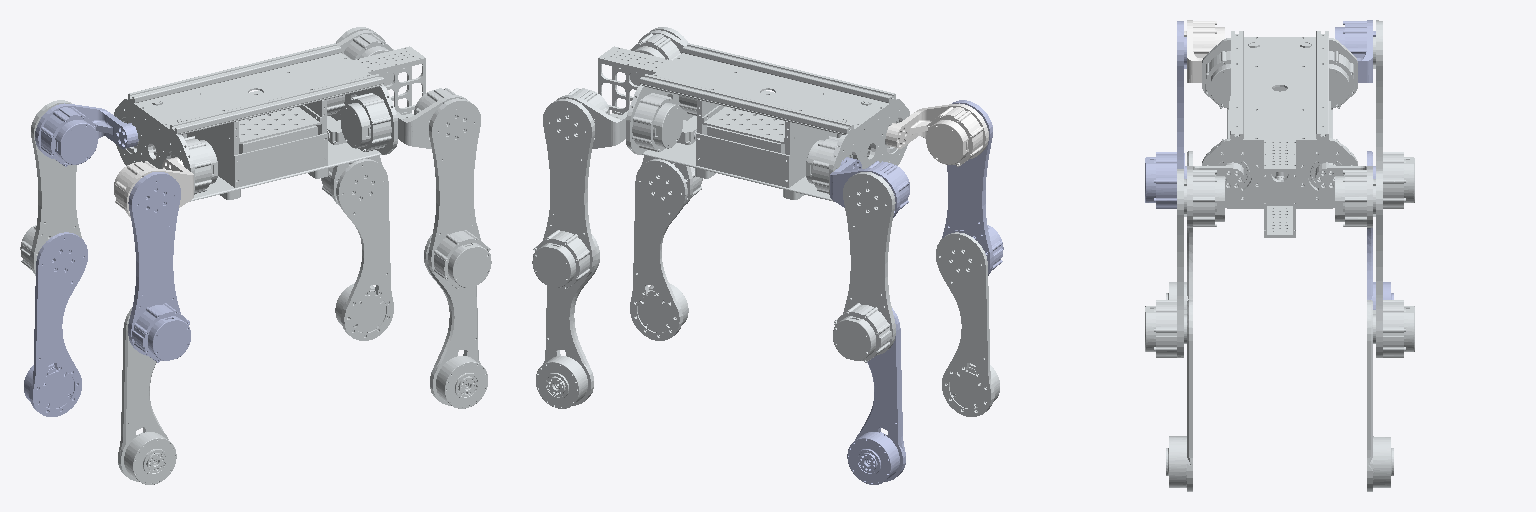
The robot description file, URDF, robot "轮足狗_.SLDASM":
<?xml version='1.0' encoding='utf-8'?>
<robot name="轮足狗_.SLDASM">
  <!--Cleaned URDF: TORSO frame centered at CoM with +X forward, +Y left, +Z up; FR wheel frame rebuilt to match other wheel frames.-->
  <!--FR_FOOT position patch: keep the cleaned FR joint frame/axis, but translate the FR wheel mesh/cylinder outward to match HR right-side wheel offset.-->
  <link name="TORSO">
    <inertial>
      <origin xyz="0 0 0" rpy="0 0 0" />
      <mass value="10.5939" />
      <inertia ixx="2.244989E-02" ixy="4.513171E-07" ixz="3.977473E-07" iyy="3.593972E-02" iyz="8.931130E-08" izz="4.818445E-02" />
    </inertial>
    <visual>
      <origin xyz="-0.17132 -0.082853 -0.17763" rpy="0 0 -1.57079632679" />
      <geometry>
        <mesh filename="meshes/TORSO.STL" />
      </geometry>
      <material name="">
        <color rgba="0.89804 0.91765 0.92941 1" />
      </material>
    </visual>
    <collision>
      <origin xyz="0.00368 4.7e-05 -0.00063" rpy="0 0 0" />
      <geometry>
        <box size="0.36 0.238 0.148" />
      </geometry>
    </collision>
  </link>
  <link name="FL_HIP">
    <inertial>
      <origin xyz="0.070477 0.040444 0.000175" rpy="0 0 0" />
      <mass value="0.901000" />
      <inertia ixx="6.779220E-04" ixy="9.538100E-05" ixz="2.057000E-06" iyy="1.368307E-03" iyz="1.348000E-06" izz="1.331932E-03" />
    </inertial>
    <visual>
      <origin xyz="0 0 0" rpy="0 0 0" />
      <geometry>
        <mesh filename="meshes/FL_HIP.STL" />
      </geometry>
      <material name="">
        <color rgba="0.89804 0.91765 0.92941 1" />
      </material>
    </visual>
    <collision>
      <origin xyz="0.0610 0.0278 0.0000" rpy="0 0 0" />
      <geometry>
        <box size="0.1350 0.0925 0.0900" />
      </geometry>
    </collision>
  </link>
  <joint name="FL_HipX_joint" type="revolute">
    <origin xyz="0.186222764816 0.0725677528644 0.00207736388662" rpy="0 0 0" />
    <parent link="TORSO" />
    <child link="FL_HIP" />
    <axis xyz="1 0 0" />
    <limit lower="-0.7854" upper="0.7854" effort="36" velocity="50" />
  </joint>
  <link name="FL_THIGH">
    <inertial>
      <origin xyz="0.000103 0.023360 -0.157618" rpy="0 0 0" />
      <mass value="1.201000" />
      <inertia ixx="9.982389E-03" ixy="9.890000E-07" ixz="-7.162000E-06" iyy="1.013524E-02" iyz="-1.161495E-03" izz="9.005400E-04" />
    </inertial>
    <visual>
      <origin xyz="0 0 0" rpy="0 0 0" />
      <geometry>
        <mesh filename="meshes/FL_THIGH.STL" />
      </geometry>
      <material name="">
        <color rgba="0.89804 0.91765 0.92941 1" />
      </material>
    </visual>
    <collision>
      <origin xyz="-0.0000 0.0275 -0.1100" rpy="0 0 0" />
      <geometry>
        <box size="0.0900 0.0720 0.3100" />
      </geometry>
    </collision>
  </link>
  <joint name="FL_HipY_joint" type="revolute">
    <origin xyz="0.0835 0.07 0" rpy="0 0 -7.4653E-05" />
    <parent link="FL_HIP" />
    <child link="FL_THIGH" />
    <axis xyz="0 1 0" />
    <limit lower="-2.618" upper="2.618" effort="36" velocity="50" />
  </joint>
  <link name="FL_SHANK">
    <inertial>
      <origin xyz="0.0102344801412479 -0.00705081143452821 -0.0901428442063565" rpy="0 0 0" />
      <mass value="0.875000" />
      <inertia ixx="8.123158E-03" ixy="-4.345000E-06" ixz="-2.567050E-04" iyy="8.411166E-03" iyz="-4.497470E-04" izz="5.552230E-04" />
    </inertial>
    <visual>
      <origin xyz="0 0 0" rpy="0 0 0" />
      <geometry>
        <mesh filename="meshes/FL_SHANK.STL" />
      </geometry>
      <material name="">
        <color rgba="0.89804 0.91765 0.92941 1" />
      </material>
    </visual>
    <collision>
      <origin xyz="0.0051 0.0065 -0.1099" rpy="0 0 0" />
      <geometry>
        <box size="0.1000 0.0420 0.3097" />
      </geometry>
    </collision>
  </link>
  <joint name="FL_Knee_joint" type="revolute">
    <origin xyz="0 0.00449999998746073 -0.220000000000001" rpy="0 0 7.46533953353422E-05" />
    <parent link="FL_THIGH" />
    <child link="FL_SHANK" />
    <axis xyz="0 1 0" />
    <limit lower="-2.65" upper="2.65" effort="36" velocity="50" />
  </joint>
  <link name="FL_FOOT">
    <inertial>
      <origin xyz="-0.000001 0.046293 -0.000001" rpy="0 0 0" />
      <mass value="0.514000" />
      <inertia ixx="1.132843E-03" ixy="0.000000E+00" ixz="0.000000E+00" iyy="2.106672E-03" iyz="0.000000E+00" izz="1.132837E-03" />
    </inertial>
    <visual>
      <origin xyz="0 0 0" rpy="0 0 0" />
      <geometry>
        <mesh filename="meshes/FL_FOOT.STL" />
      </geometry>
      <material name="">
        <color rgba="0.79216 0.81961 0.93333 1" />
      </material>
    </visual>
    <collision>
      <origin xyz="0 0.046293 0" rpy="1.5708 0 0" />
      <geometry>
        <cylinder radius="0.0814" length="0.0493" />
      </geometry>
    </collision>
  </link>
  <joint name="FL_Ankle" type="continuous">
    <origin xyz="0.010470454367838 -0.00450000000000075 -0.219750698714098" rpy="0 0 0" />
    <parent link="FL_SHANK" />
    <child link="FL_FOOT" />
    <axis xyz="0 1 0" />
    <limit effort="17" velocity="33" />
  </joint>
  <link name="FR_HIP">
    <inertial>
      <origin xyz="0.070477 -0.040444 0.000175" rpy="0 0 0" />
      <mass value="0.901000" />
      <inertia ixx="6.779220E-04" ixy="-9.538100E-05" ixz="2.057000E-06" iyy="1.368307E-03" iyz="-1.348000E-06" izz="1.331932E-03" />
    </inertial>
    <visual>
      <origin xyz="0 0 0" rpy="0 0 0" />
      <geometry>
        <mesh filename="meshes/FR_HIP.STL" />
      </geometry>
      <material name="">
        <color rgba="0.898039215686275 0.917647058823529 0.929411764705882 1" />
      </material>
    </visual>
    <collision>
      <origin xyz="0.0610 -0.0277 0.0000" rpy="0 0 0" />
      <geometry>
        <box size="0.1350 0.0925 0.0900" />
      </geometry>
    </collision>
  </link>
  <joint name="FR_HipX_joint" type="revolute">
    <origin xyz="0.18622 -0.072432 0.00208" rpy="0 0 3.67320510335e-06" />
    <parent link="TORSO" />
    <child link="FR_HIP" />
    <axis xyz="1 0 0" />
    <limit lower="-0.7854" upper="0.7854" effort="36" velocity="50" />
  </joint>
  <link name="FR_THIGH">
    <inertial>
      <origin xyz="0.000103 -0.023360 -0.157618" rpy="0 0 0" />
      <mass value="1.201000" />
      <inertia ixx="9.982389E-03" ixy="-9.890000E-07" ixz="-7.162000E-06" iyy="1.013524E-02" iyz="1.161495E-03" izz="9.005400E-04" />
    </inertial>
    <visual>
      <origin xyz="0 0 0" rpy="0 0 0" />
      <geometry>
        <mesh filename="meshes/FR_THIGH.STL" />
      </geometry>
      <material name="">
        <color rgba="0.89804 0.91765 0.92941 1" />
      </material>
    </visual>
    <collision>
      <origin xyz="0.0000 -0.0275 -0.1100" rpy="0 0 0" />
      <geometry>
        <box size="0.0900 0.0720 0.3100" />
      </geometry>
    </collision>
  </link>
  <joint name="FR_HipY_joint" type="revolute">
    <origin xyz="0.0834999999999989 -0.0699978978739992 0" rpy="0 0 0" />
    <parent link="FR_HIP" />
    <child link="FR_THIGH" />
    <axis xyz="0 1 0" />
    <limit lower="-2.618" upper="2.618" effort="36" velocity="50" />
  </joint>
  <link name="FR_SHANK">
    <inertial>
      <origin xyz="0.0102335137649963 0.00705014206401373 -0.0901429071391265" rpy="0 0 0" />
      <mass value="0.875000" />
      <inertia ixx="8.123158E-03" ixy="4.345000E-06" ixz="-2.567050E-04" iyy="8.411166E-03" iyz="4.497470E-04" izz="5.552230E-04" />
    </inertial>
    <visual>
      <origin xyz="0 0 0" rpy="0 0 0" />
      <geometry>
        <mesh filename="meshes/FR_SHANK.STL" />
      </geometry>
      <material name="">
        <color rgba="0.89804 0.91765 0.92941 1" />
      </material>
    </visual>
    <collision>
      <origin xyz="0.0051 -0.0065 -0.1099" rpy="0 0 0" />
      <geometry>
        <box size="0.1000 0.0420 0.3097" />
      </geometry>
    </collision>
  </link>
  <joint name="FR_Knee_joint" type="revolute">
    <origin xyz="0 -0.00450000000138416 -0.219999999999972" rpy="0 0 0" />
    <parent link="FR_THIGH" />
    <child link="FR_SHANK" />
    <axis xyz="0 1 0" />
    <limit lower="-2.65" upper="2.65" effort="36" velocity="50" />
  </joint>
  <link name="FR_FOOT">
    <inertial>
      <origin xyz="-0.000001 -0.046293 -0.000001" rpy="0 0 0" />
      <mass value="0.514000" />
      <inertia ixx="1.132843E-03" ixy="-0.000000E+00" ixz="0.000000E+00" iyy="2.106672E-03" iyz="-0.000000E+00" izz="1.132837E-03" />
    </inertial>
    <visual>
      <origin xyz="0 -0.0462931261351 0" rpy="1.57079632679 0 0" />
      <geometry>
        <mesh filename="meshes/FR_FOOT.STL" />
      </geometry>
      <material name="">
        <color rgba="0.79216 0.81961 0.93333 1" />
      </material>
    </visual>
    <collision>
      <origin xyz="0 -0.0462931261351 0" rpy="1.57079632679 0 0" />
      <geometry>
        <cylinder radius="0.0814" length="0.0493" />
      </geometry>
    </collision>
  </link>
  <joint name="FR_Ankle" type="continuous">
    <origin xyz="0.0104704543678 0.0045 -0.219750698714" rpy="0 0 0" />
    <parent link="FR_SHANK" />
    <child link="FR_FOOT" />
    <axis xyz="0 1 0" />
    <limit effort="17" velocity="33" />
  </joint>
  <link name="HL_Hip">
    <inertial>
      <origin xyz="-0.070477 0.040444 0.000175" rpy="0 0 0" />
      <mass value="0.901000" />
      <inertia ixx="6.779220E-04" ixy="-9.538100E-05" ixz="-2.057000E-06" iyy="1.368307E-03" iyz="1.348000E-06" izz="1.331932E-03" />
    </inertial>
    <visual>
      <origin xyz="0 0 0" rpy="0 0 0" />
      <geometry>
        <mesh filename="meshes/HL_Hip.STL" />
      </geometry>
      <material name="">
        <color rgba="0.792156862745098 0.819607843137255 0.933333333333333 1" />
      </material>
    </visual>
    <collision>
      <origin xyz="-0.0610 0.0278 0.0000" rpy="0 0 0" />
      <geometry>
        <box size="0.1350 0.0925 0.0900" />
      </geometry>
    </collision>
  </link>
  <joint name="HL_HipX_joint" type="revolute">
    <origin xyz="-0.185777 0.072567 0.00208" rpy="0 0 3.67320510335e-06" />
    <parent link="TORSO" />
    <child link="HL_Hip" />
    <axis xyz="1 0 0" />
    <limit lower="-0.7854" upper="0.7854" effort="36" velocity="50" />
  </joint>
  <link name="HL_THIGH">
    <inertial>
      <origin xyz="-0.000103 0.023360 -0.157618" rpy="0 0 0" />
      <mass value="1.201000" />
      <inertia ixx="9.982389E-03" ixy="-9.890000E-07" ixz="7.162000E-06" iyy="1.013524E-02" iyz="-1.161495E-03" izz="9.005400E-04" />
    </inertial>
    <visual>
      <origin xyz="0 0 0" rpy="0 0 0" />
      <geometry>
        <mesh filename="meshes/HL_THIGH.STL" />
      </geometry>
      <material name="">
        <color rgba="0.89804 0.91765 0.92941 1" />
      </material>
    </visual>
    <collision>
      <origin xyz="0.0000 0.0275 -0.1100" rpy="0 0 0" />
      <geometry>
        <box size="0.0900 0.0720 0.3100" />
      </geometry>
    </collision>
  </link>
  <joint name="HL_HipY_joint" type="revolute">
    <origin xyz="-0.0835000000000001 0.0700000000000002 0" rpy="0 0 0" />
    <parent link="HL_Hip" />
    <child link="HL_THIGH" />
    <axis xyz="0 1 0" />
    <limit lower="-2.618" upper="2.618" effort="36" velocity="50" />
  </joint>
  <link name="HL_SHANK">
    <inertial>
      <origin xyz="-0.0102335138101311 -0.00705074667591804 -0.0901428598448259" rpy="0 0 0" />
      <mass value="0.875000" />
      <inertia ixx="8.123158E-03" ixy="4.345000E-06" ixz="2.567050E-04" iyy="8.411166E-03" iyz="-4.497470E-04" izz="5.552230E-04" />
    </inertial>
    <visual>
      <origin xyz="0 0 0" rpy="0 0 0" />
      <geometry>
        <mesh filename="meshes/HL_SHANK.STL" />
      </geometry>
      <material name="">
        <color rgba="0.79216 0.81961 0.93333 1" />
      </material>
    </visual>
    <collision>
      <origin xyz="-0.0051 0.0065 -0.1099" rpy="0 0 0" />
      <geometry>
        <box size="0.1000 0.0420 0.3097" />
      </geometry>
    </collision>
  </link>
  <joint name="HL_Knee_joint" type="revolute">
    <origin xyz="0 0.00450000000069189 -0.219999999999986" rpy="0 0 0" />
    <parent link="HL_THIGH" />
    <child link="HL_SHANK" />
    <axis xyz="0 1 0" />
    <limit lower="-2.65" upper="2.65" effort="36" velocity="50" />
  </joint>
  <link name="HL_FOOT">
    <inertial>
      <origin xyz="0.000001 0.046293 -0.000001" rpy="0 0 0" />
      <mass value="0.514000" />
      <inertia ixx="1.132843E-03" ixy="-0.000000E+00" ixz="-0.000000E+00" iyy="2.106672E-03" iyz="0.000000E+00" izz="1.132837E-03" />
    </inertial>
    <visual>
      <origin xyz="0 0 0" rpy="0 0 0" />
      <geometry>
        <mesh filename="meshes/HL_FOOT.STL" />
      </geometry>
      <material name="">
        <color rgba="0.79216 0.81961 0.93333 1" />
      </material>
    </visual>
    <collision>
      <origin xyz="0 0.046293 0" rpy="1.5708 0 0" />
      <geometry>
        <cylinder radius="0.0814" length="0.0493" />
      </geometry>
    </collision>
  </link>
  <joint name="HL_Ankle" type="continuous">
    <origin xyz="-0.010470454367838 -0.00449999999930983 -0.219750698714112" rpy="0 0 0" />
    <parent link="HL_SHANK" />
    <child link="HL_FOOT" />
    <axis xyz="0 1 0" />
    <limit effort="17" velocity="33" />
  </joint>
  <link name="HR_Hip">
    <inertial>
      <origin xyz="-0.070477 -0.040444 0.000175" rpy="0 0 0" />
      <mass value="0.901000" />
      <inertia ixx="6.779220E-04" ixy="9.538100E-05" ixz="-2.057000E-06" iyy="1.368307E-03" iyz="-1.348000E-06" izz="1.331932E-03" />
    </inertial>
    <visual>
      <origin xyz="0 0 0" rpy="0 0 0" />
      <geometry>
        <mesh filename="meshes/HR_Hip.STL" />
      </geometry>
      <material name="">
        <color rgba="1 1 1 1" />
      </material>
    </visual>
    <collision>
      <origin xyz="-0.0610 -0.0278 0.0000" rpy="0 0 0" />
      <geometry>
        <box size="0.1350 0.0925 0.0900" />
      </geometry>
    </collision>
  </link>
  <joint name="HR_HipX_joint" type="revolute">
    <origin xyz="-0.185777235184 -0.0724311960726 0.00207736388753" rpy="0 0 0" />
    <parent link="TORSO" />
    <child link="HR_Hip" />
    <axis xyz="1 0 0" />
    <limit lower="-0.7854" upper="0.7854" effort="36" velocity="50" />
  </joint>
  <link name="HR_THIGH">
    <inertial>
      <origin xyz="-0.000103 -0.023360 -0.157618" rpy="0 0 0" />
      <mass value="1.201000" />
      <inertia ixx="9.982389E-03" ixy="9.890000E-07" ixz="7.162000E-06" iyy="1.013524E-02" iyz="1.161495E-03" izz="9.005400E-04" />
    </inertial>
    <visual>
      <origin xyz="0 0 0" rpy="0 0 0" />
      <geometry>
        <mesh filename="meshes/HR_THIGH.STL" />
      </geometry>
      <material name="">
        <color rgba="0.792156862745098 0.819607843137255 0.933333333333333 1" />
      </material>
    </visual>
    <collision>
      <origin xyz="0.0005 -0.0275 -0.1100" rpy="0 0 0" />
      <geometry>
        <box size="0.0910 0.0720 0.3100" />
      </geometry>
    </collision>
  </link>
  <joint name="HR_HipY_joint" type="revolute">
    <origin xyz="-0.0835 -0.0700000000000002 0" rpy="0 0 0" />
    <parent link="HR_Hip" />
    <child link="HR_THIGH" />
    <axis xyz="0 1 0" />
    <limit lower="-2.618" upper="2.618" effort="36" velocity="50" />
  </joint>
  <link name="HR_SHANK">
    <inertial>
      <origin xyz="-0.0102344957667752 0.00705081295562879 -0.090142859158988" rpy="0 0 0" />
      <mass value="0.875000" />
      <inertia ixx="8.123158E-03" ixy="-4.345000E-06" ixz="2.567050E-04" iyy="8.411166E-03" iyz="4.497470E-04" izz="5.552230E-04" />
    </inertial>
    <visual>
      <origin xyz="0 0 0" rpy="0 0 0" />
      <geometry>
        <mesh filename="meshes/HR_SHANK.STL" />
      </geometry>
      <material name="">
        <color rgba="0.898039215686275 0.917647058823529 0.929411764705882 1" />
      </material>
    </visual>
    <collision>
      <origin xyz="-0.0051 -0.0065 -0.1099" rpy="0 0 0" />
      <geometry>
        <box size="0.1000 0.0420 0.3097" />
      </geometry>
    </collision>
  </link>
  <joint name="HR_Knee_joint" type="revolute">
    <origin xyz="0 -0.0045000000006925 -0.219999999999986" rpy="0 0 0" />
    <parent link="HR_THIGH" />
    <child link="HR_SHANK" />
    <axis xyz="0 1 0" />
    <limit lower="-2.65" upper="2.65" effort="36" velocity="50" />
  </joint>
  <link name="HR_FOOT">
    <inertial>
      <origin xyz="0.000001 -0.046293 -0.000001" rpy="0 0 0" />
      <mass value="0.514000" />
      <inertia ixx="1.132843E-03" ixy="0.000000E+00" ixz="-0.000000E+00" iyy="2.106672E-03" iyz="-0.000000E+00" izz="1.132837E-03" />
    </inertial>
    <visual>
      <origin xyz="0 0 0" rpy="0 0 0" />
      <geometry>
        <mesh filename="meshes/HR_FOOT.STL" />
      </geometry>
      <material name="">
        <color rgba="0.792156862745098 0.819607843137255 0.933333333333333 1" />
      </material>
    </visual>
    <collision>
      <origin xyz="0 -0.0462931261351309 0" rpy="1.5708 0 0" />
      <geometry>
        <cylinder radius="0.0814" length="0.0493" />
      </geometry>
    </collision>
  </link>
  <joint name="HR_Ankle" type="continuous">
    <origin xyz="-0.010470454367838 0.00449999999930926 -0.219750698714113" rpy="0 0 0" />
    <parent link="HR_SHANK" />
    <child link="HR_FOOT" />
    <axis xyz="0 1 0" />
    <limit effort="17" velocity="33" />
  </joint>
</robot>

--- Render facts (derived) ---
The picture shows the robot from 3 angles, left to right: view 1: azimuth 30°, elevation 25°; view 2: azimuth 150°, elevation 25°; view 3: azimuth 270°, elevation 25°; orthographic projection.
Robot: 轮足狗_.SLDASM — 17 links, 16 joints (12 revolute, 4 continuous); root link TORSO; default pose: every joint at zero.
Visible links, largest first — view 1: TORSO, FR_THIGH, HR_THIGH, FL_SHANK, HL_SHANK, HR_SHANK, FR_SHANK, HL_Hip, HL_THIGH, HR_Hip, FR_HIP, FL_HIP (+1 smaller); view 2: TORSO, FL_THIGH, HL_THIGH, FR_SHANK, HR_SHANK, HL_SHANK, FL_SHANK, HR_Hip, HR_THIGH, HL_Hip, FL_HIP, FR_HIP (+1 smaller); view 3: TORSO, FL_THIGH, FR_THIGH, HR_THIGH, HL_THIGH, FL_HIP, FR_HIP, FR_SHANK, FL_SHANK, HL_Hip, HR_Hip, HL_SHANK (+1 smaller).
Boxes of the visible links, x1=… form: TORSO: x1=114, y1=43, x2=425, y2=201; FR_THIGH: x1=428, y1=98, x2=491, y2=288; HR_THIGH: x1=128, y1=172, x2=190, y2=362; FL_SHANK: x1=335, y1=159, x2=393, y2=340; HL_SHANK: x1=24, y1=232, x2=87, y2=416; HR_SHANK: x1=118, y1=308, x2=176, y2=484; FR_SHANK: x1=424, y1=235, x2=487, y2=408; HL_Hip: x1=35, y1=103, x2=138, y2=166; HL_THIGH: x1=20, y1=100, x2=81, y2=275; HR_Hip: x1=114, y1=157, x2=193, y2=217; FR_HIP: x1=396, y1=88, x2=466, y2=148; FL_HIP: x1=337, y1=30, x2=393, y2=85; TORSO: x1=598, y1=43, x2=909, y2=201; FL_THIGH: x1=532, y1=98, x2=595, y2=288; HL_THIGH: x1=833, y1=172, x2=895, y2=362; FR_SHANK: x1=630, y1=159, x2=688, y2=340; HR_SHANK: x1=936, y1=232, x2=999, y2=416; HL_SHANK: x1=847, y1=308, x2=905, y2=484; FL_SHANK: x1=536, y1=235, x2=599, y2=408; HR_Hip: x1=885, y1=103, x2=988, y2=166; HR_THIGH: x1=942, y1=100, x2=1003, y2=275; HL_Hip: x1=830, y1=157, x2=909, y2=217; FL_HIP: x1=557, y1=88, x2=627, y2=148; FR_HIP: x1=630, y1=30, x2=686, y2=85; TORSO: x1=1202, y1=31, x2=1357, y2=237; FL_THIGH: x1=1373, y1=169, x2=1414, y2=357; FR_THIGH: x1=1145, y1=169, x2=1186, y2=357; HR_THIGH: x1=1145, y1=21, x2=1186, y2=208; HL_THIGH: x1=1373, y1=20, x2=1414, y2=208; FL_HIP: x1=1315, y1=163, x2=1375, y2=227; FR_HIP: x1=1184, y1=163, x2=1244, y2=227; FR_SHANK: x1=1166, y1=300, x2=1192, y2=491; FL_SHANK: x1=1367, y1=300, x2=1393, y2=491; HL_Hip: x1=1335, y1=20, x2=1375, y2=82; HR_Hip: x1=1184, y1=20, x2=1224, y2=82; HL_SHANK: x1=1367, y1=151, x2=1393, y2=309.
Bounding box of the posed robot: 0.6493 × 0.412 × 0.5558 m (x, y, z).
13 mesh visuals loaded from 17 distinct referenced files (13 binary STL); not drawn: 4 (reference not matched to a file when rendering).
